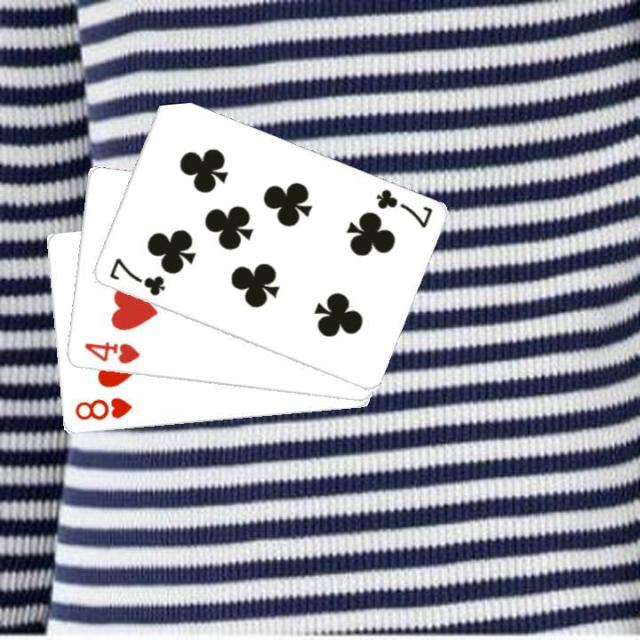4H: (80, 338, 141, 366)
7C: (371, 185, 434, 230), (105, 253, 167, 298)
8H: (70, 394, 134, 423)
